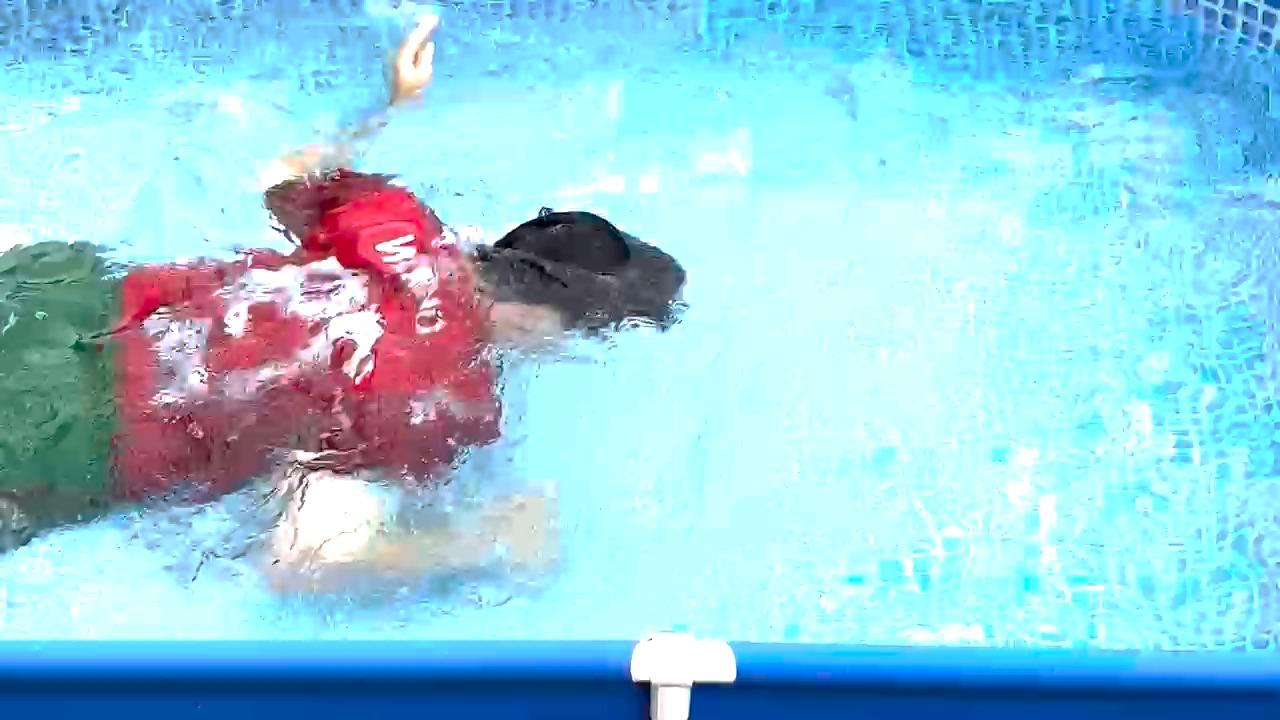Drowning: (0, 5, 768, 632)
